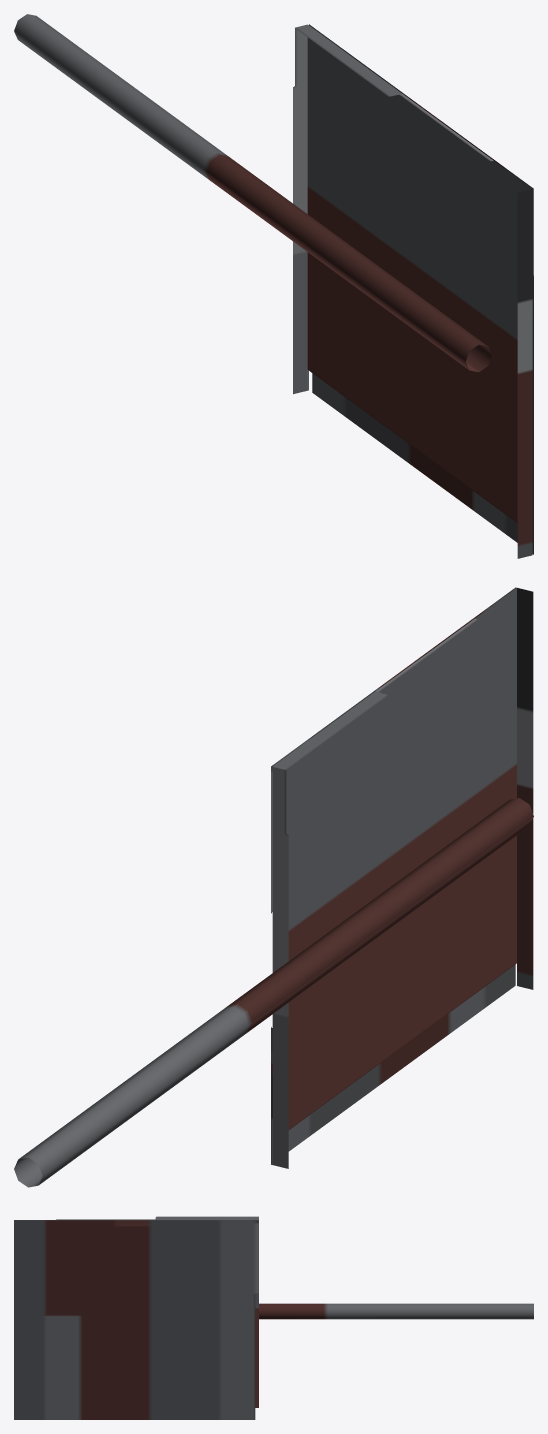
File: section-0.obj
3 renders of one model, top to bottom at view 1: azimuth 30°, elevation 25°; view 2: azimuth 150°, elevation 25°; view 3: azimuth 270°, elevation 25°, orthographic. The views are drawn at different scales.
Bounding box in the file's own units: 0.129 × 1.06 × 2.5.
